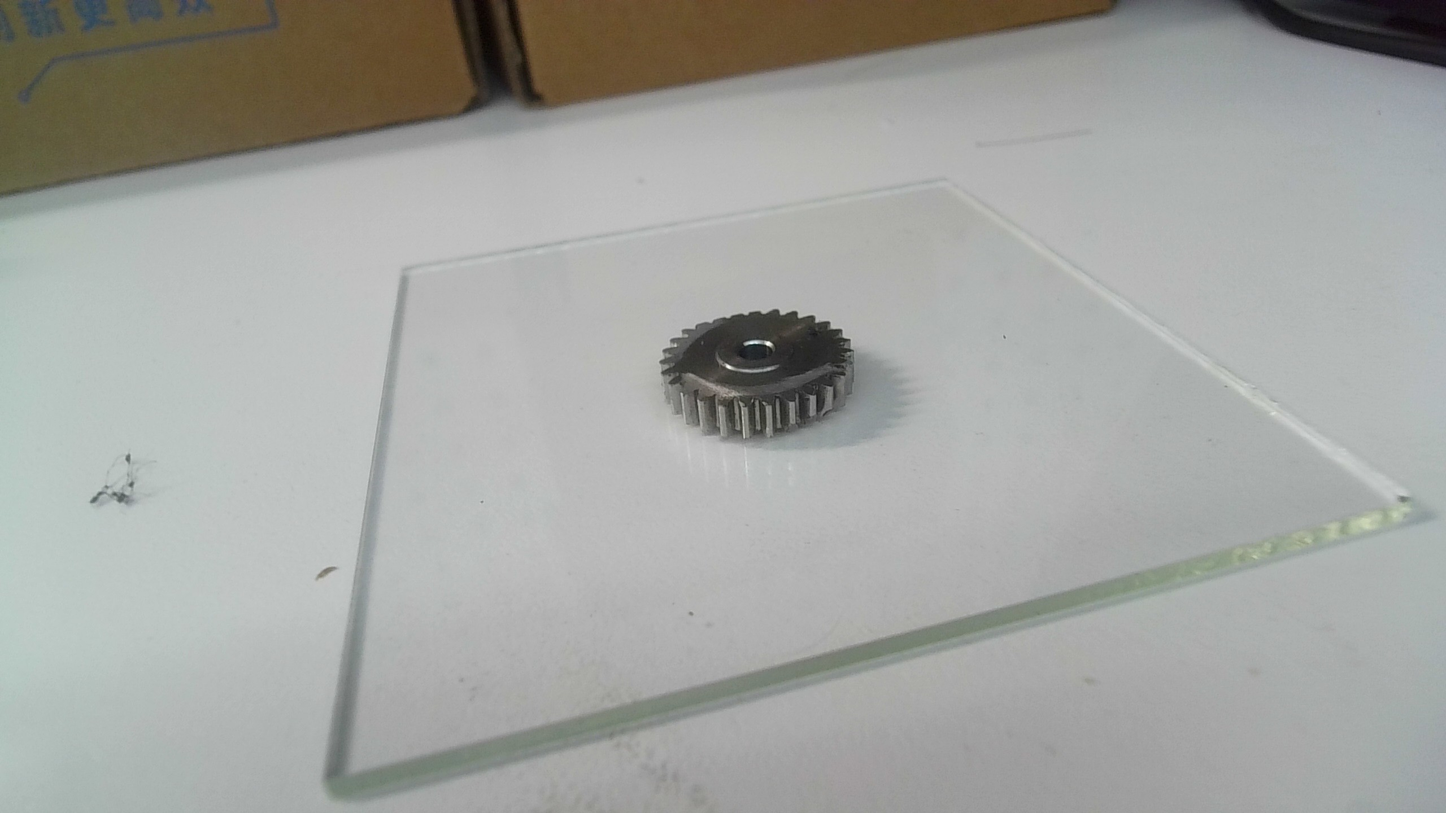gear: (657, 308, 857, 441)
